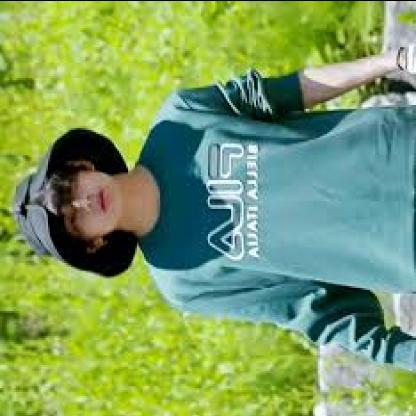hat: (8, 124, 142, 280)
